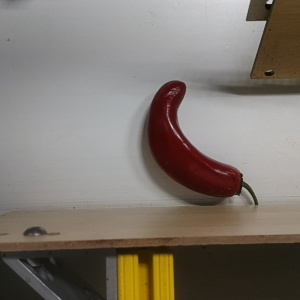Cut Point: (227, 165, 249, 199)
